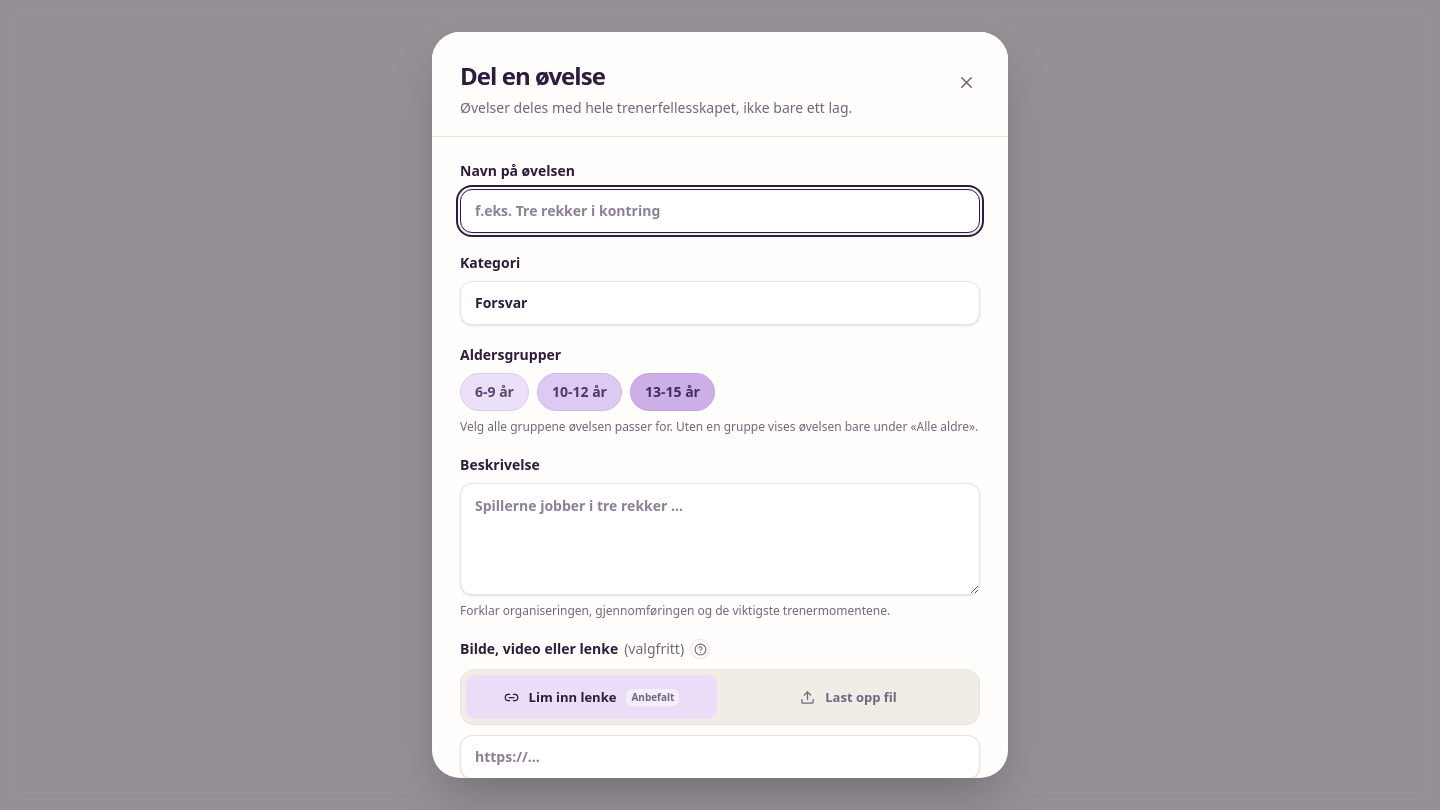
Test: ExerciseForm media source › keeps a typed link while the coach looks at the upload tab
The width and height of the screenshot is (1440, 810).
Type "Tre rekker" into the field labelled "Navn på øvelsen" at (720, 211), box [460,189,980,233]
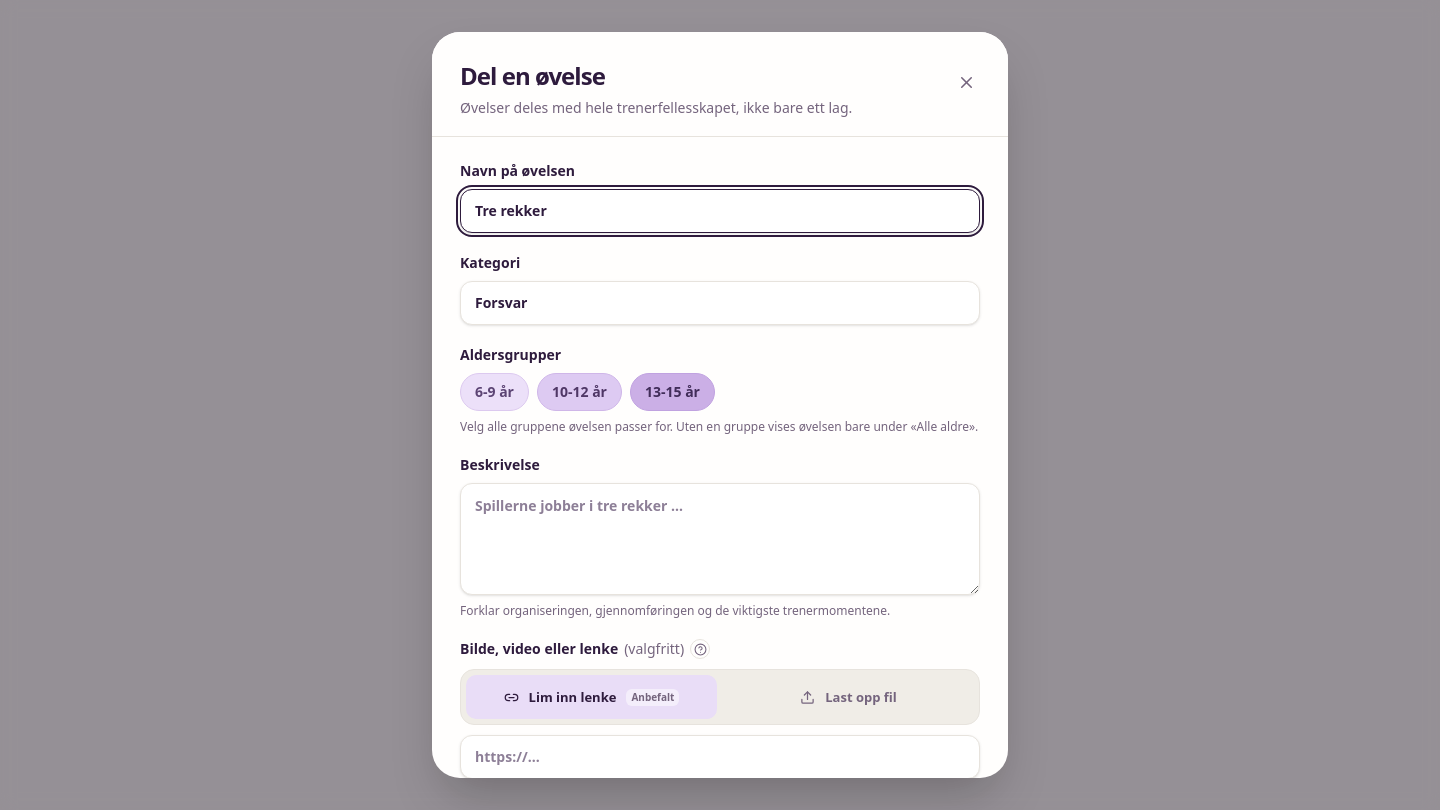
Type "Spillerne jobber i tre rekker." into the text box labelled "Beskrivelse" at (720, 539), box [460,483,980,595]
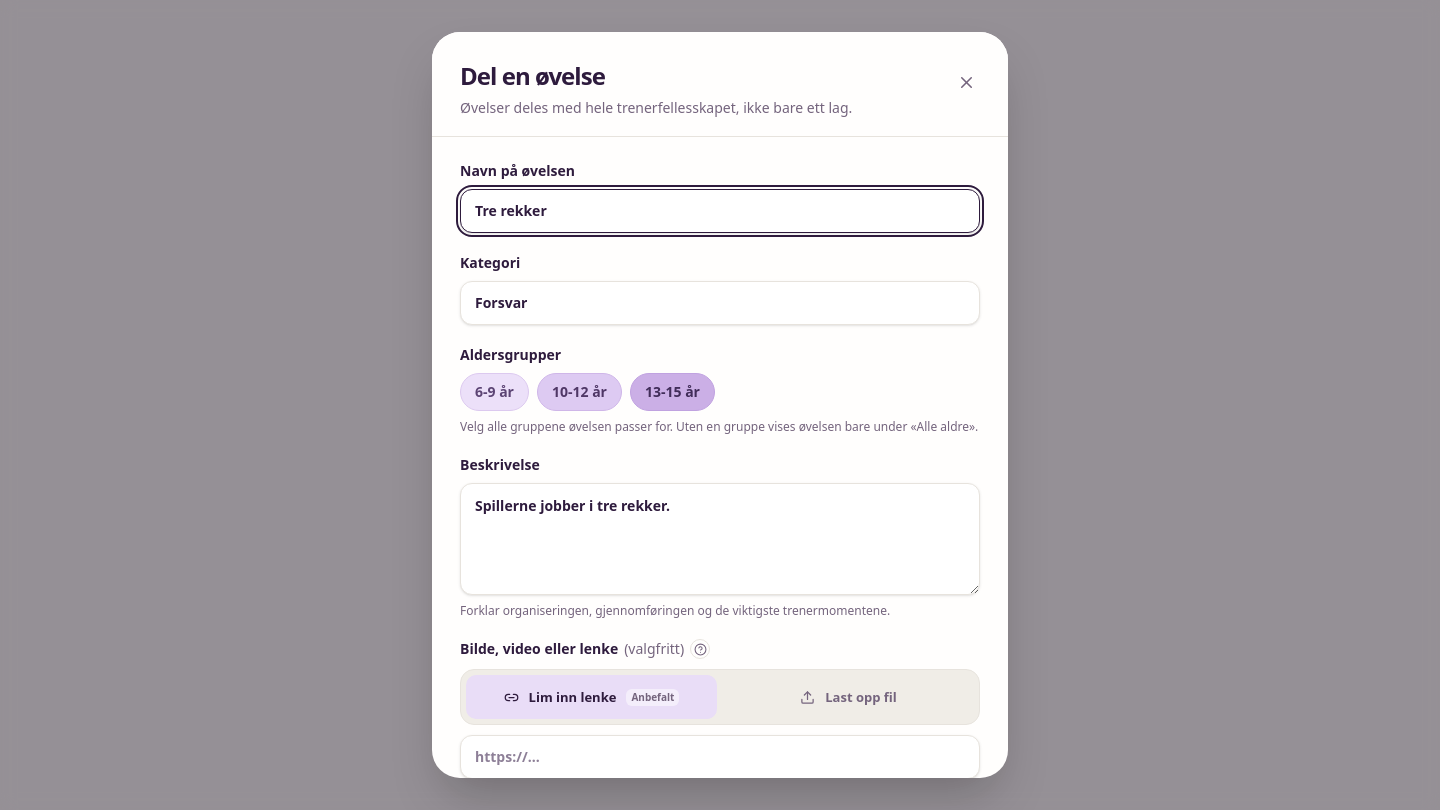
Type "https://vimeo.com/123" into the field named "Lenke til bilde, video eller innlegg" at (720, 757), box [460,735,980,779]
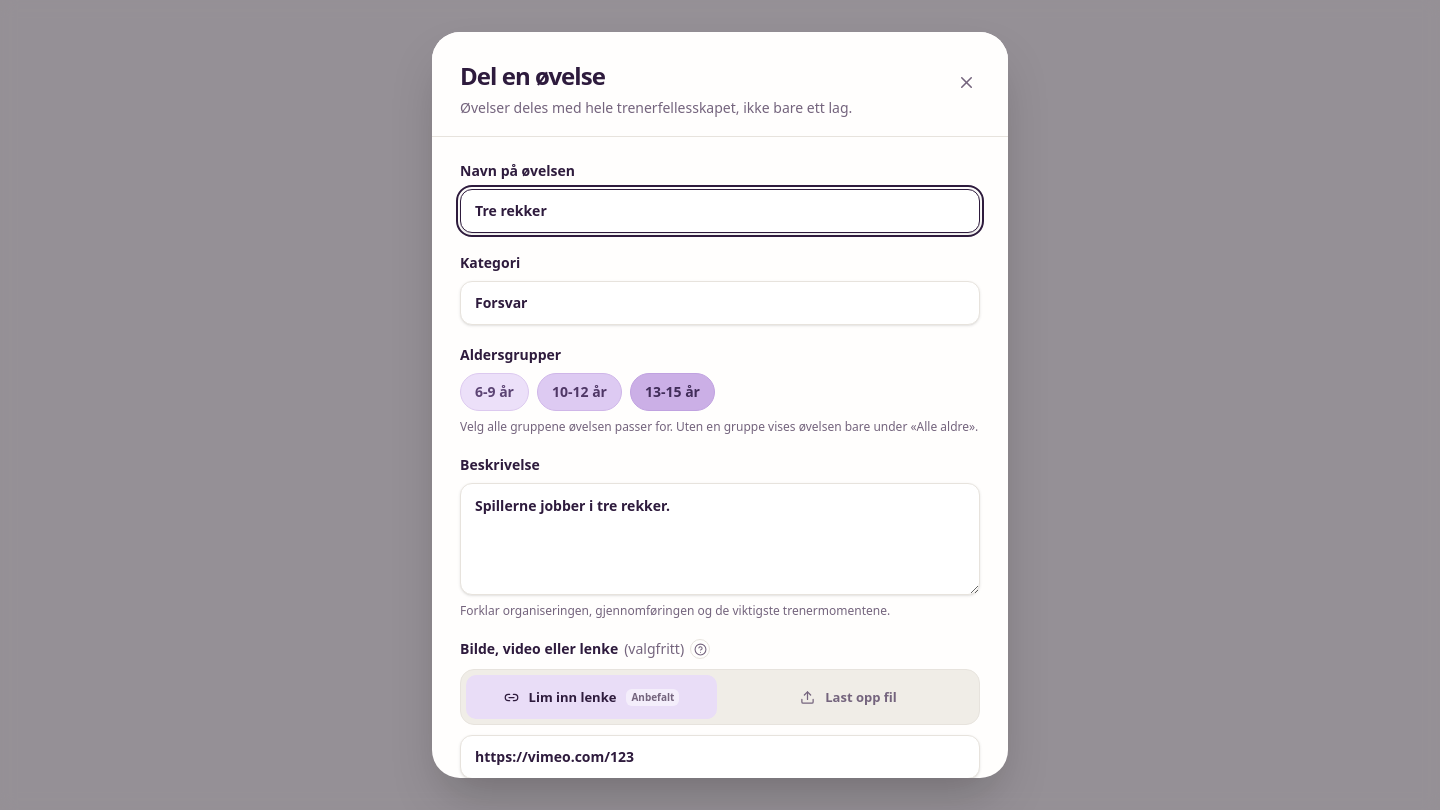
Click the button "Last opp fil" at (848, 697), box [723,675,974,719]
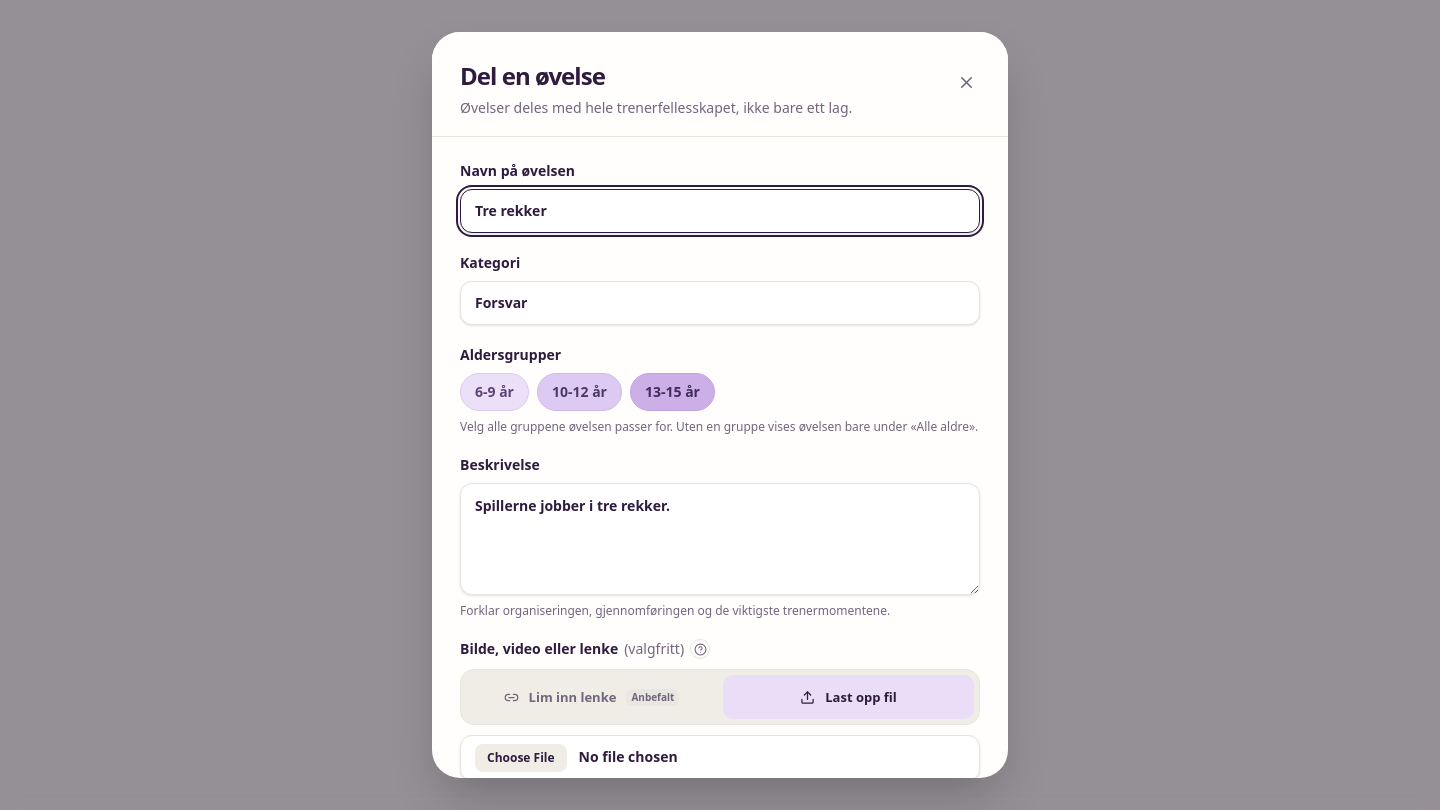
Click the button "Lim inn lenke Anbefalt" at (592, 697), box [466,675,717,719]
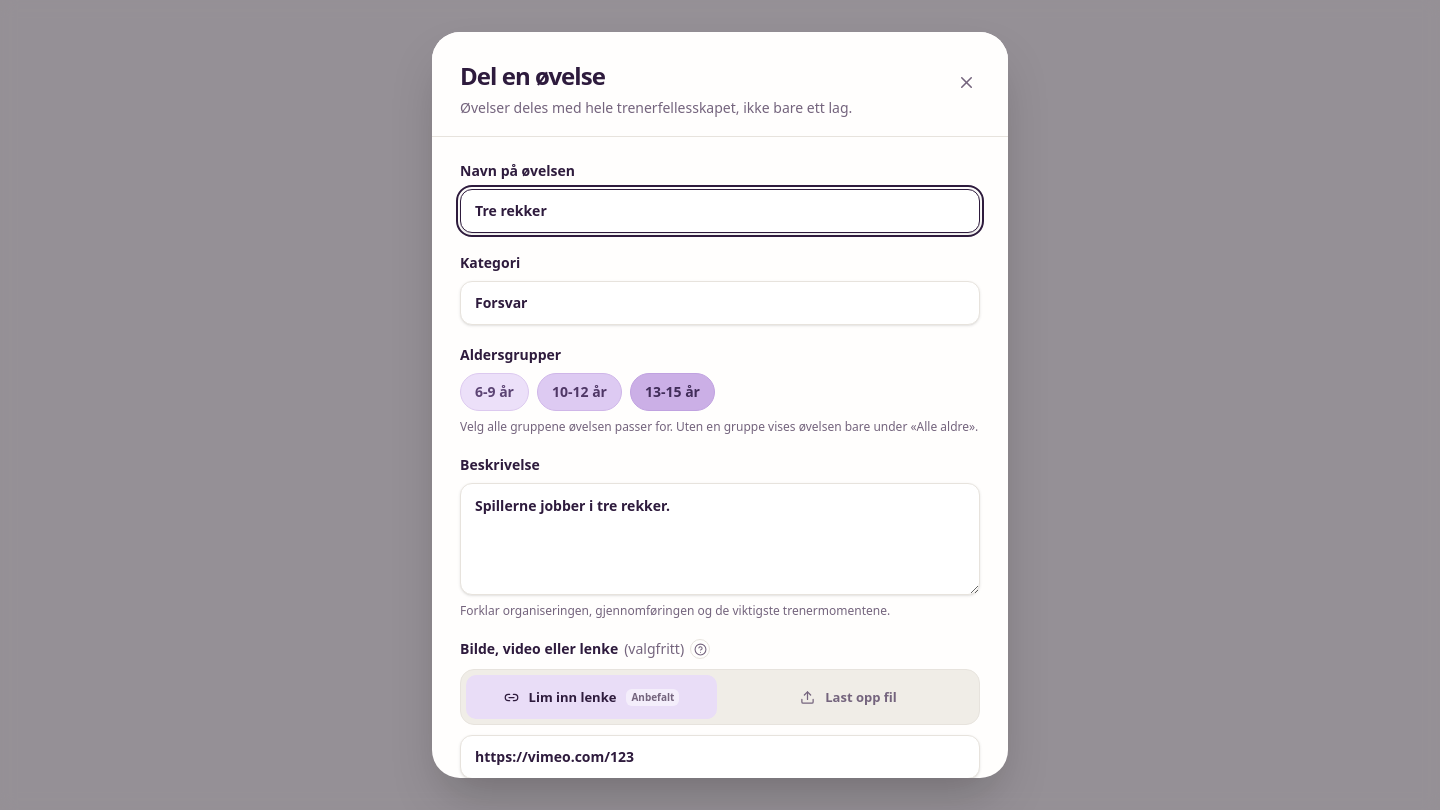
Now the field named "Lenke til bilde, video eller innlegg" holds "https://vimeo.com/123", box [460,735,980,778]
